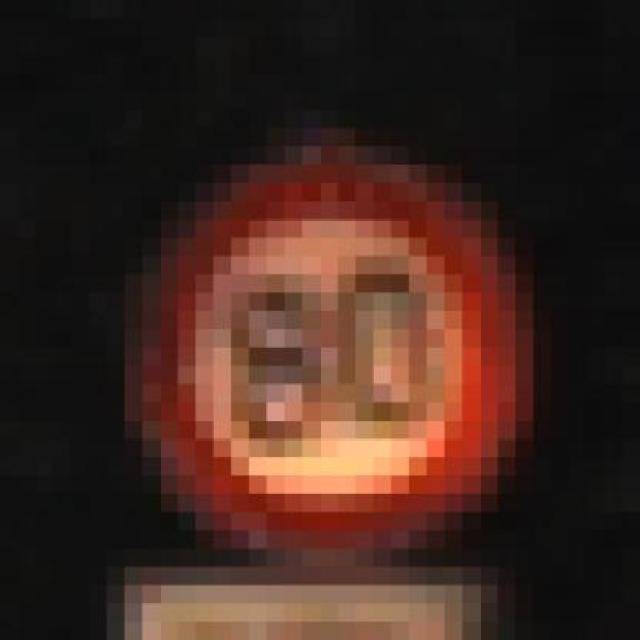forb_speed_over_80: (145, 159, 513, 553)
